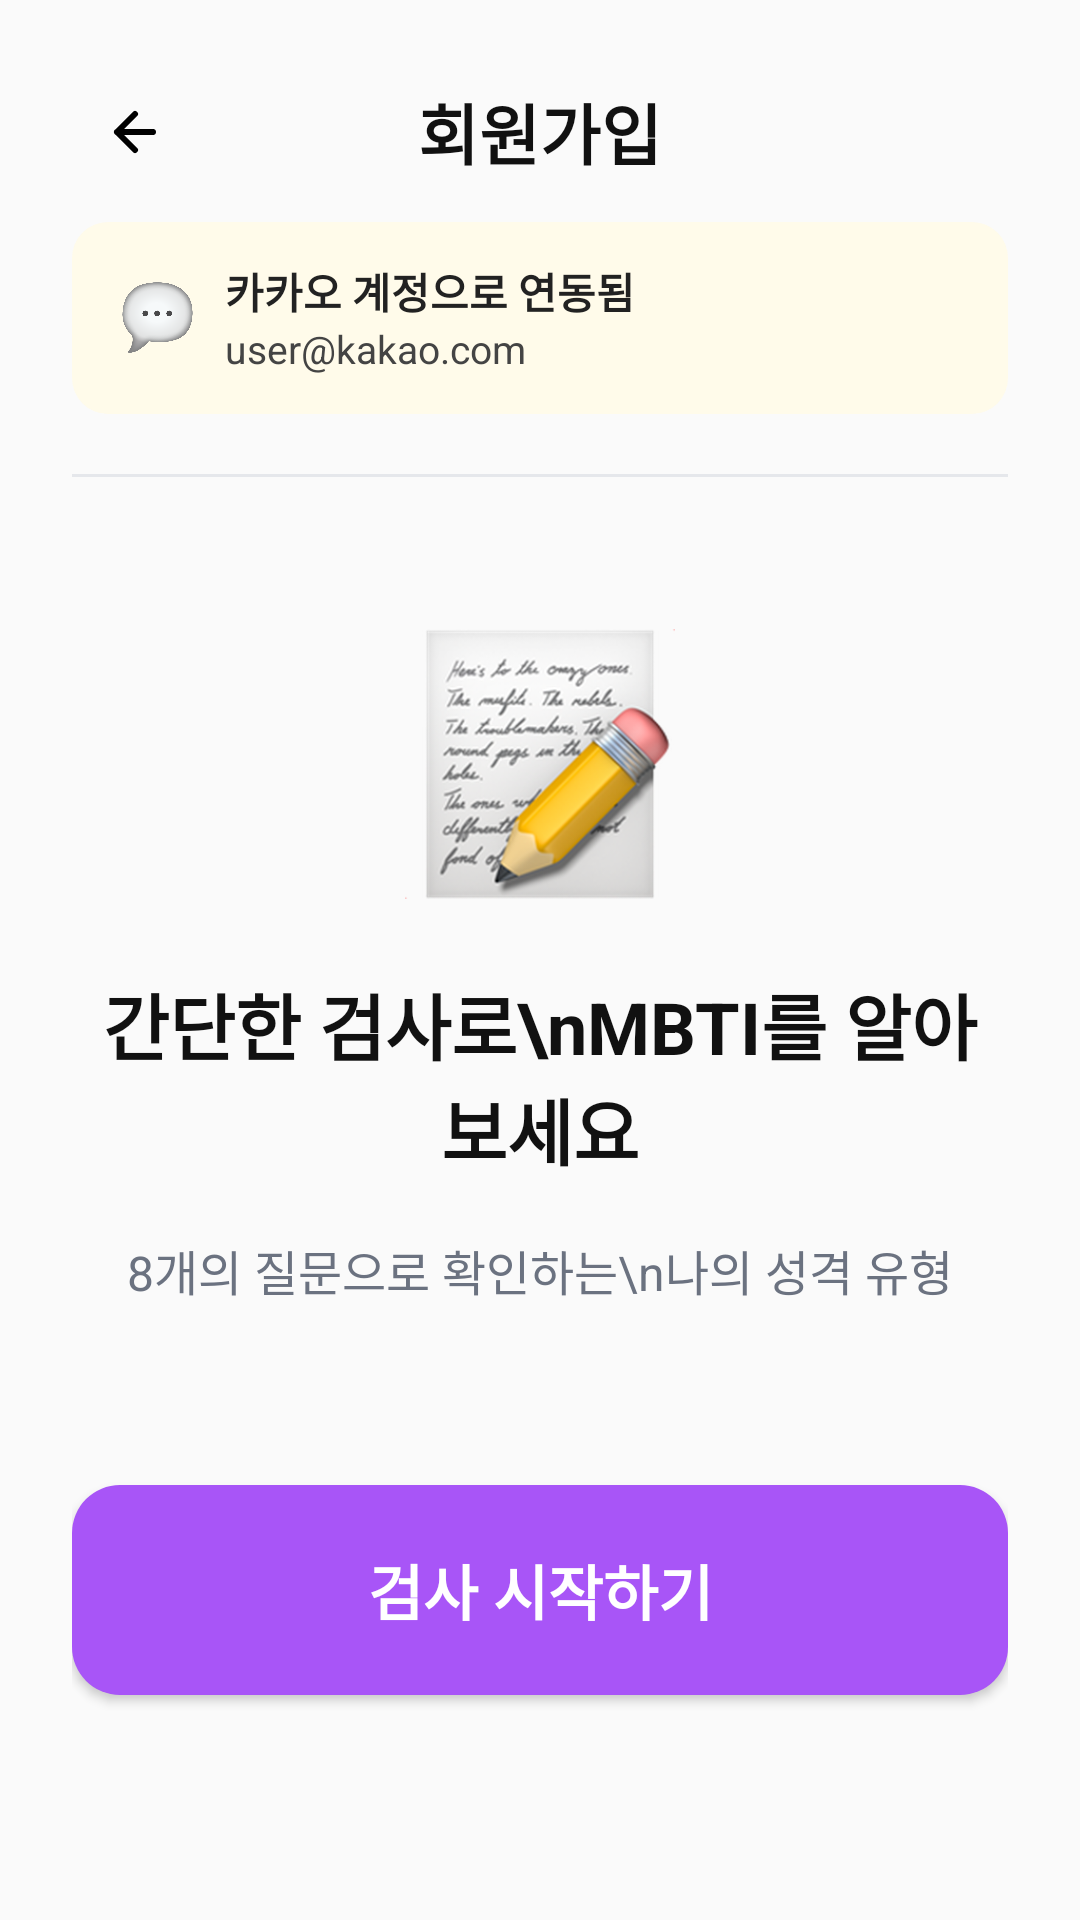

Locate icon controls on the screen. Image size 1080 × 1920, boxes as (x1, y1, x2, y2).
back: (114, 111, 156, 153)
emoji chat: (122, 282, 193, 353)
